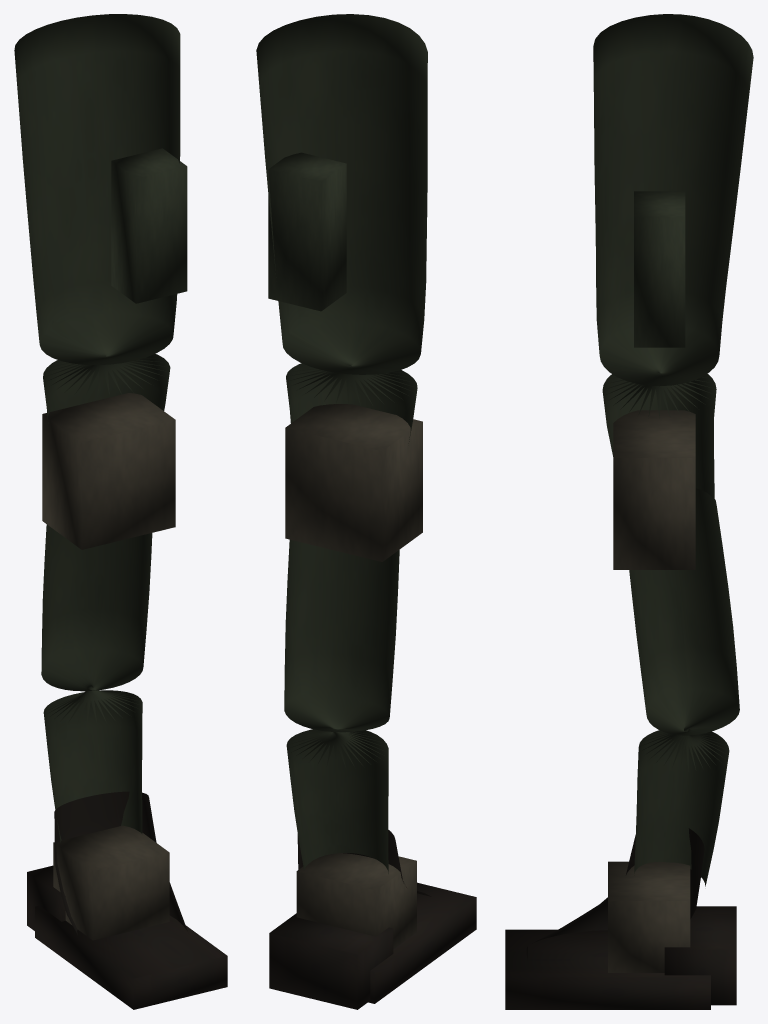
The model's file is leg.glb.
3 views of the same model, side by side, from view 1: azimuth 30°, elevation 25°; view 2: azimuth 150°, elevation 25°; view 3: azimuth 270°, elevation 25° (orthographic). The views are drawn at different scales.
Visible parts, largest first — view 1: leg; view 2: leg; view 3: leg.
Boxes of the visible parts, x1,y1,x2,y2 form: leg: (14,14,227,1009); leg: (256,14,476,1009); leg: (505,14,753,1009).
Size of the model in its own units: 0.1747 by 1.02 by 0.2415.
Materials: 1 (1 with a texture image).
